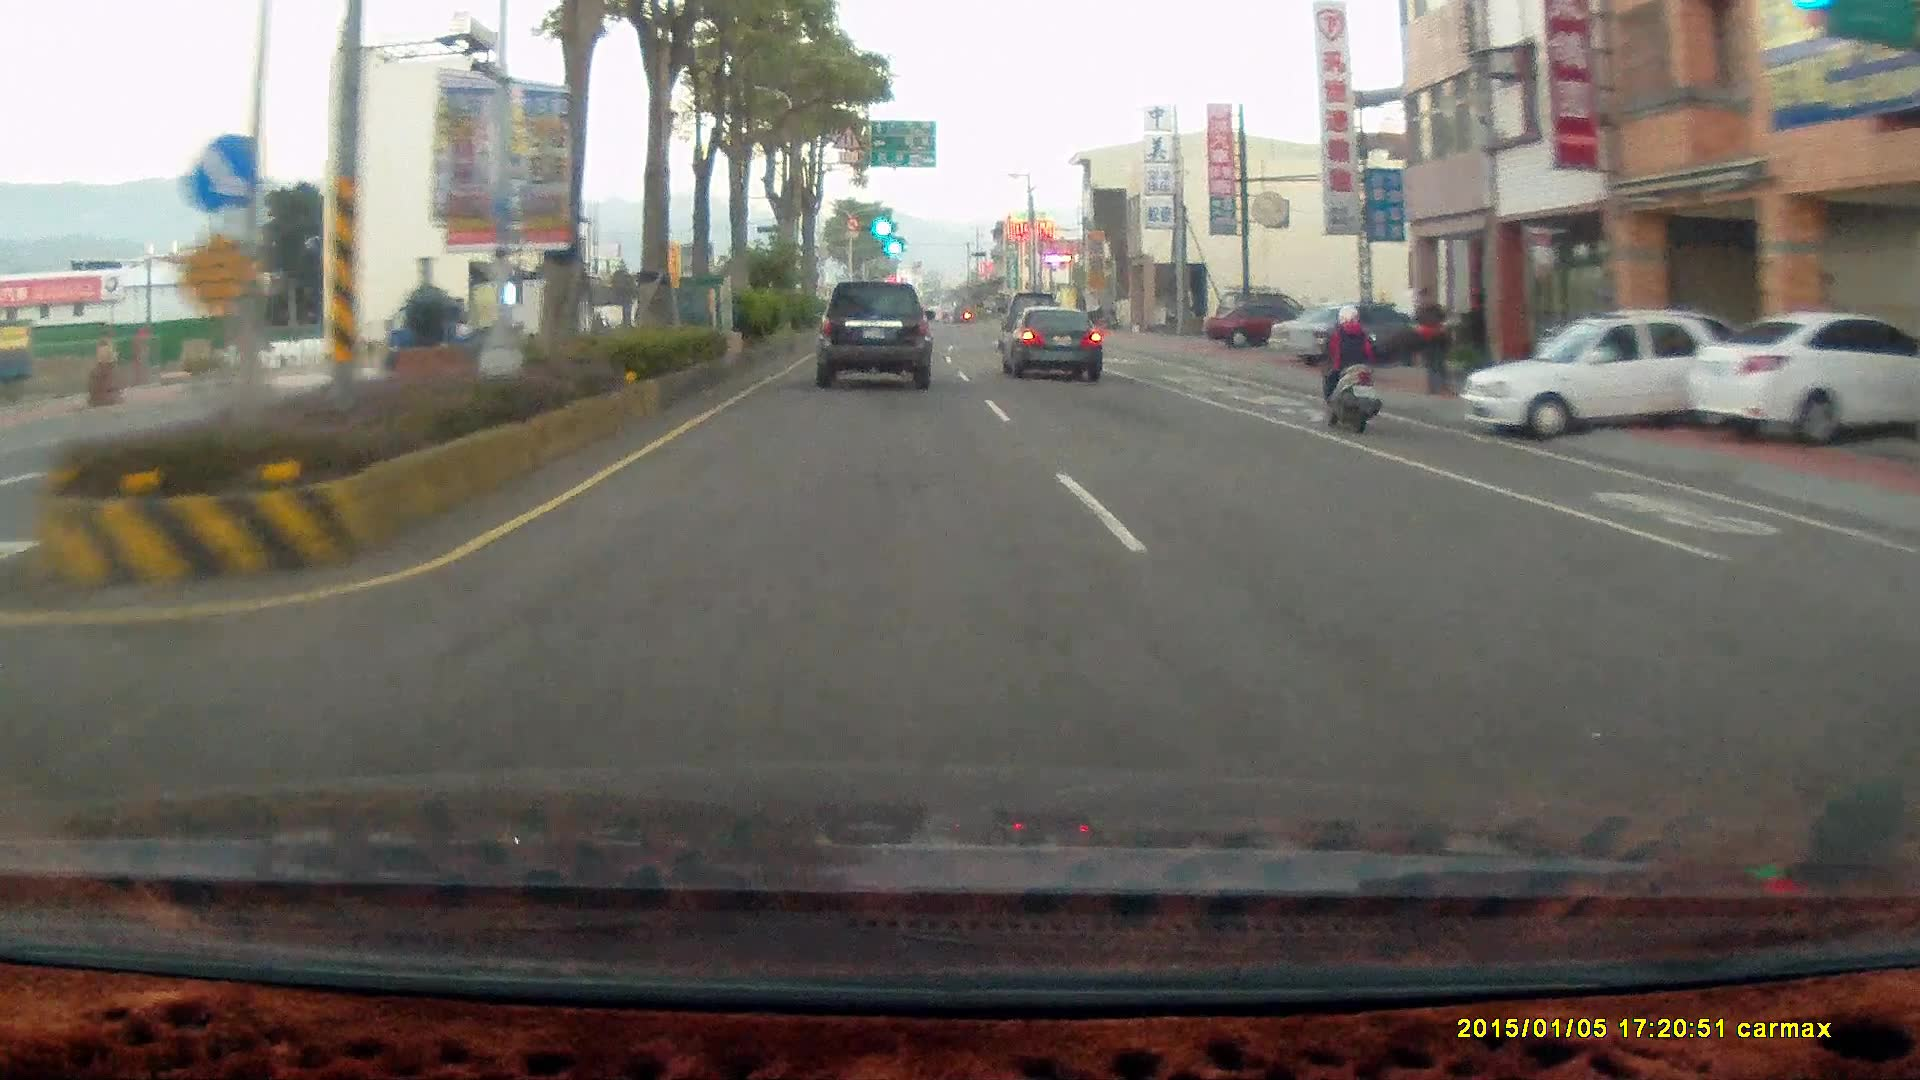pedestrian: (1406, 280, 1455, 393)
rider: (1306, 293, 1393, 442), (1315, 295, 1382, 426)
vehicle: (1461, 309, 1769, 437), (1462, 309, 1770, 437), (1687, 313, 1920, 444), (810, 276, 940, 393), (814, 276, 936, 386), (1268, 294, 1430, 363), (1268, 299, 1430, 366), (997, 303, 1102, 381), (1001, 305, 1105, 381), (1204, 301, 1324, 349)
